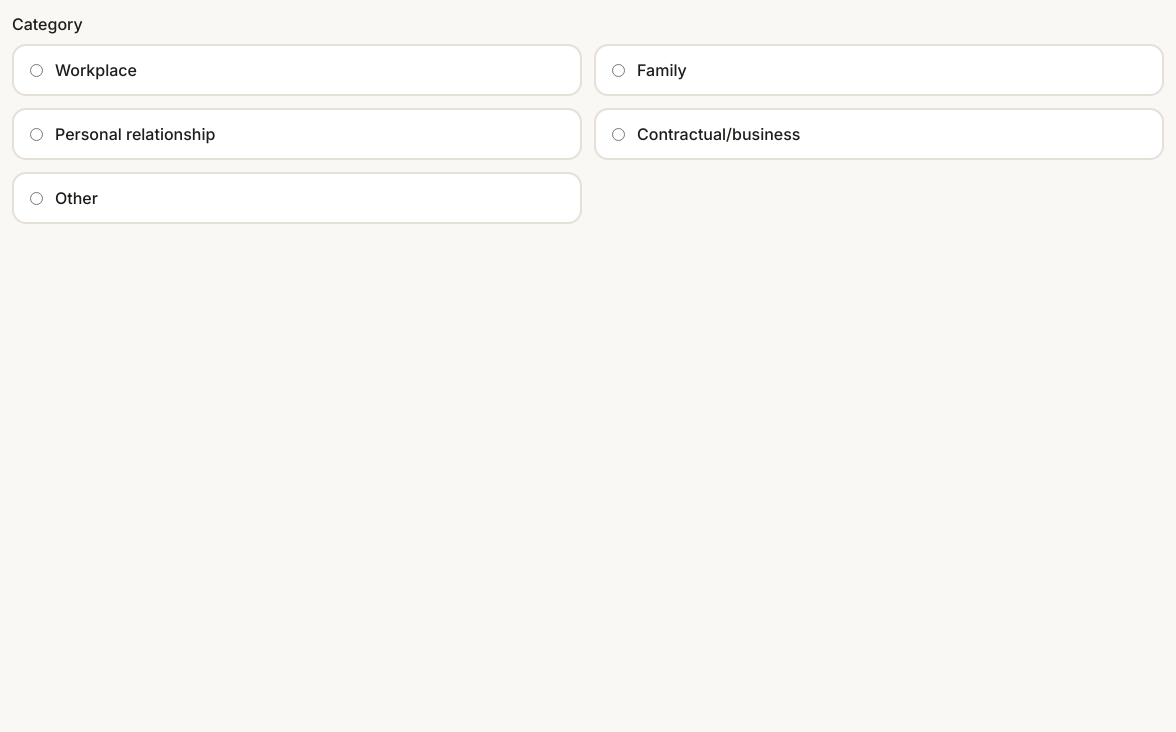
Test case: AC: Form errors render inline below input fields › shows inline error below required field when submitted empty
This screenshot has width=1176, height=732.
Click the radio button labelled "Workplace": (36, 70) [30, 64, 43, 76]
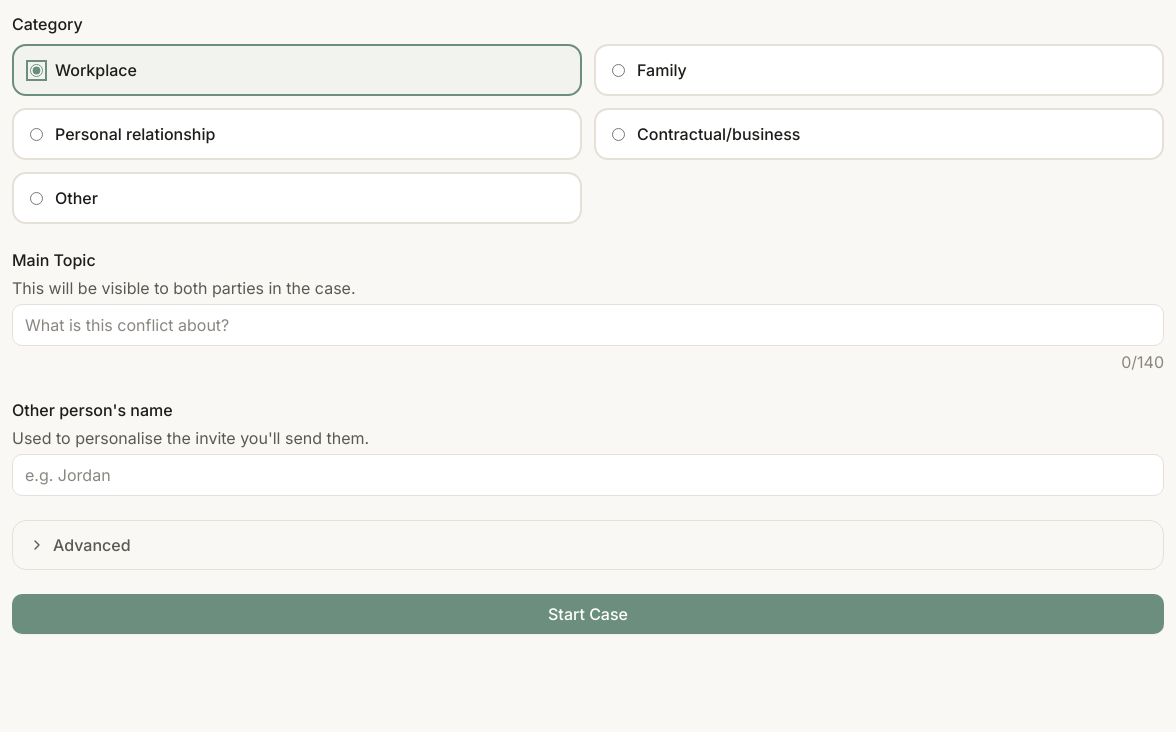
Click the button "Start Case": (588, 614) [12, 594, 1164, 634]
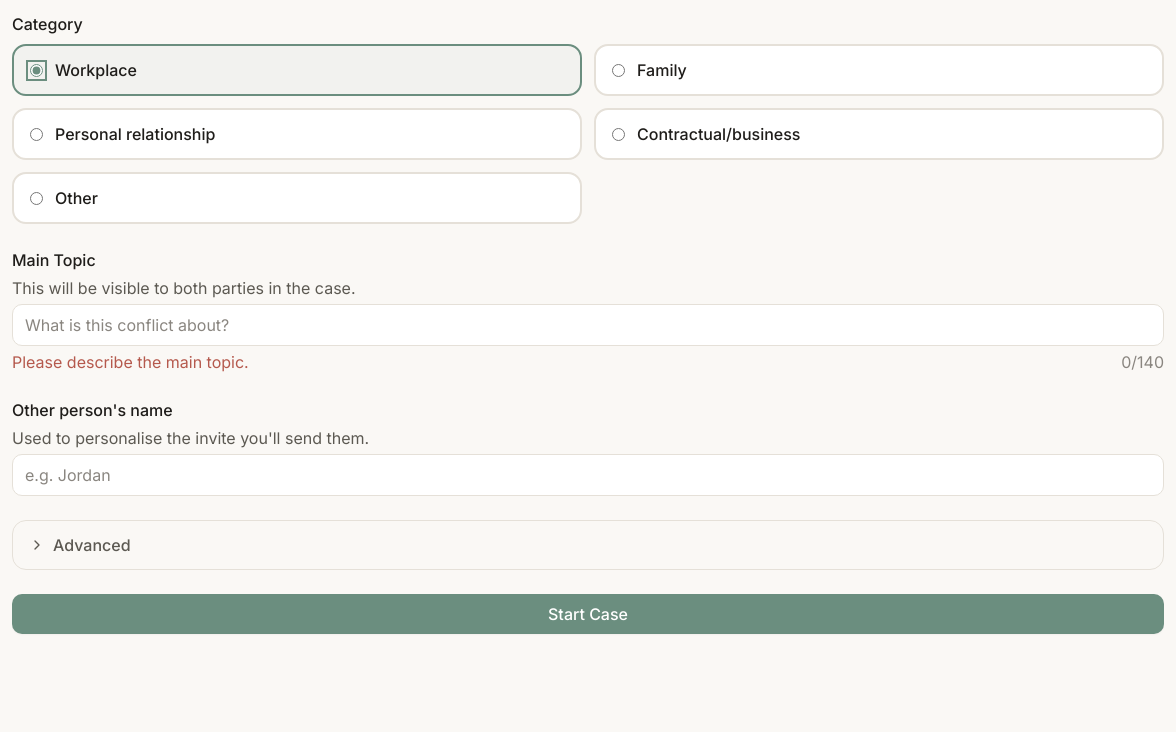
expect the message "Please describe the main topic." is shown: met, box [12, 350, 249, 374]
